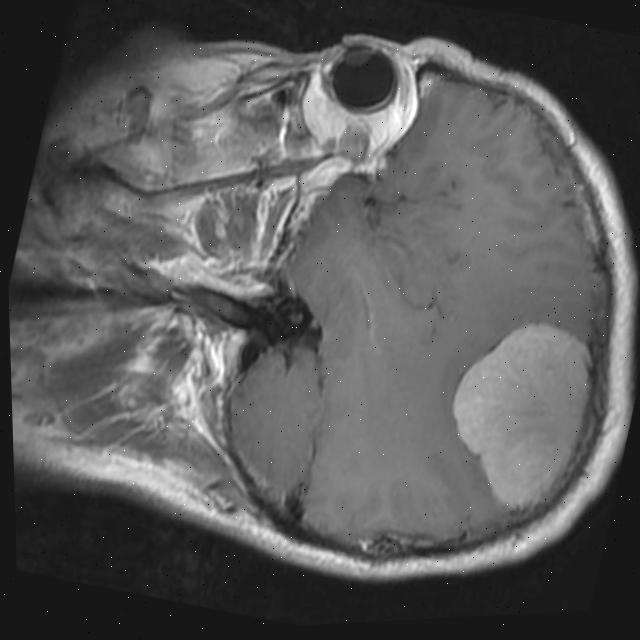Meningioma: (425, 301, 608, 527)
